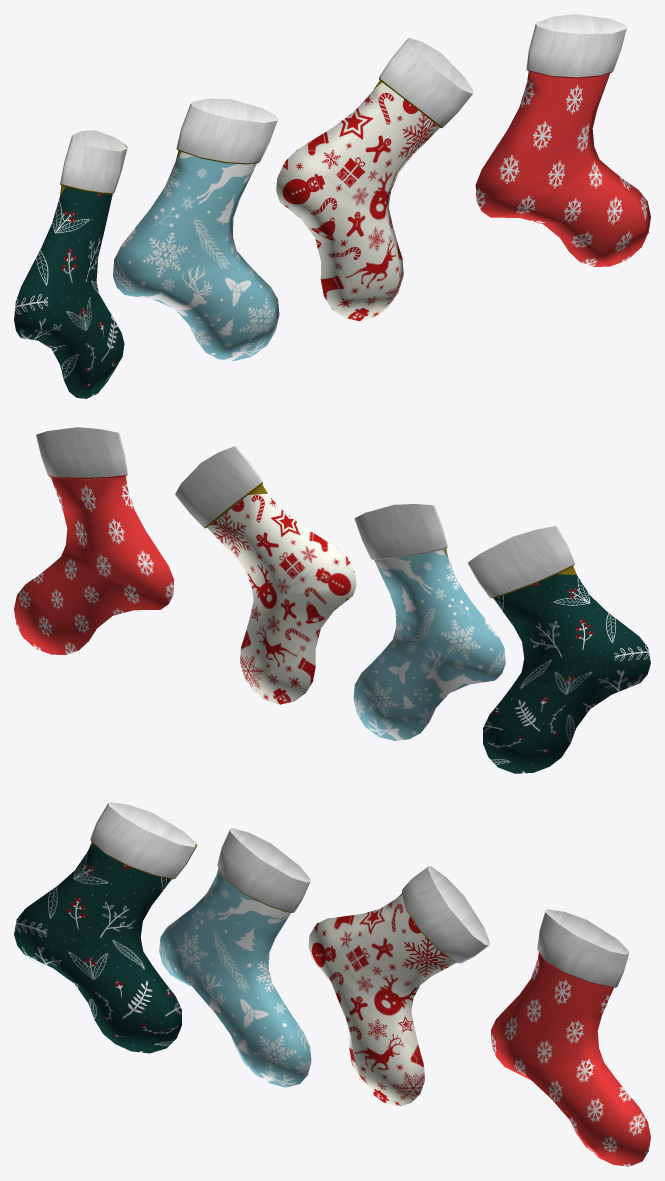
The model's file is calceta.obj.
3 views of the same model, one above another, from view 1: azimuth 30°, elevation 25°; view 2: azimuth 150°, elevation 25°; view 3: azimuth 330°, elevation 25° (orthographic). The views are drawn at different scales.
Parts seen in each view (by area): view 1: norvedem_sock003, norvedem_sock, norvedem_sock001, norvedem_sock002; view 2: norvedem_sock002, norvedem_sock001, norvedem_sock, norvedem_sock003; view 3: norvedem_sock002, norvedem_sock, norvedem_sock001, norvedem_sock003.
Part boxes in pixels (x1,y1,x2,y2): norvedem_sock003: [475, 14, 650, 266]; norvedem_sock: [113, 98, 279, 360]; norvedem_sock001: [276, 38, 473, 321]; norvedem_sock002: [14, 130, 127, 398]; norvedem_sock002: [467, 526, 650, 773]; norvedem_sock001: [175, 446, 356, 704]; norvedem_sock: [353, 504, 505, 740]; norvedem_sock003: [14, 427, 173, 654]; norvedem_sock002: [14, 802, 197, 1053]; norvedem_sock: [159, 828, 311, 1087]; norvedem_sock001: [308, 866, 489, 1106]; norvedem_sock003: [490, 909, 650, 1166].
Bounding box in the file's own units: 68.68 × 27.72 × 7.91.
Materials: 6 (5 with a texture image).
